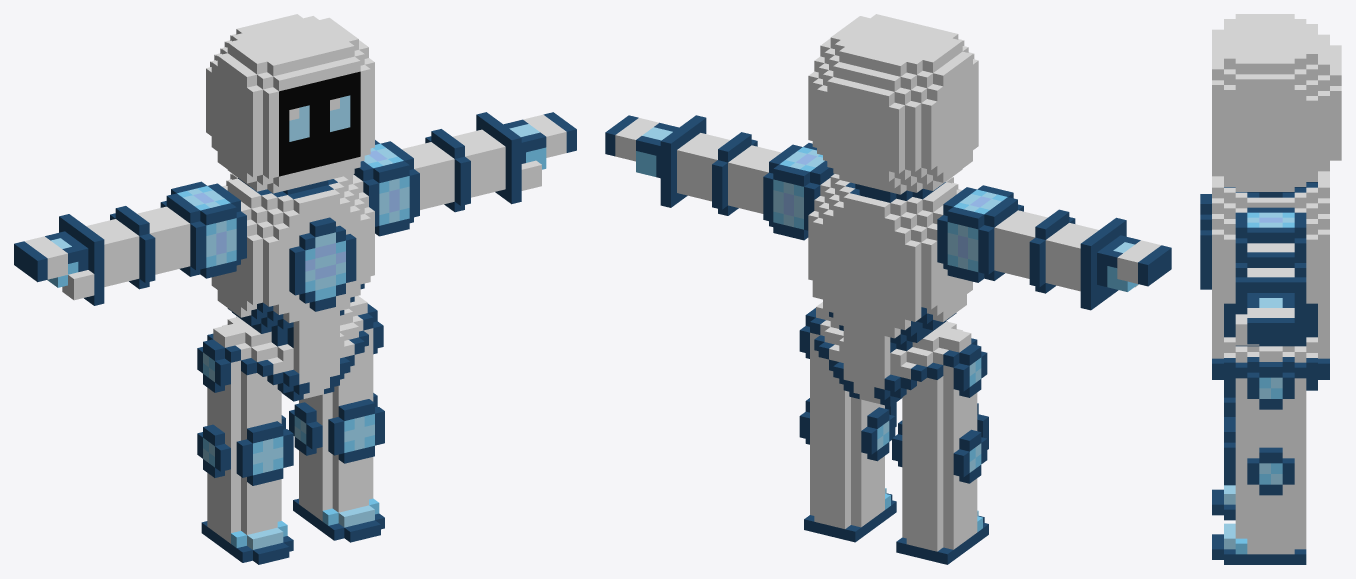
The model's file is Linfocito T.obj.
The picture shows the model from 3 angles, left to right: view 1: azimuth 30°, elevation 25°; view 2: azimuth 150°, elevation 25°; view 3: azimuth 270°, elevation 25°; orthographic projection.
Size of the model in its own units: 5.3 by 4.6 by 1.2.
1 material, 1 textured.
